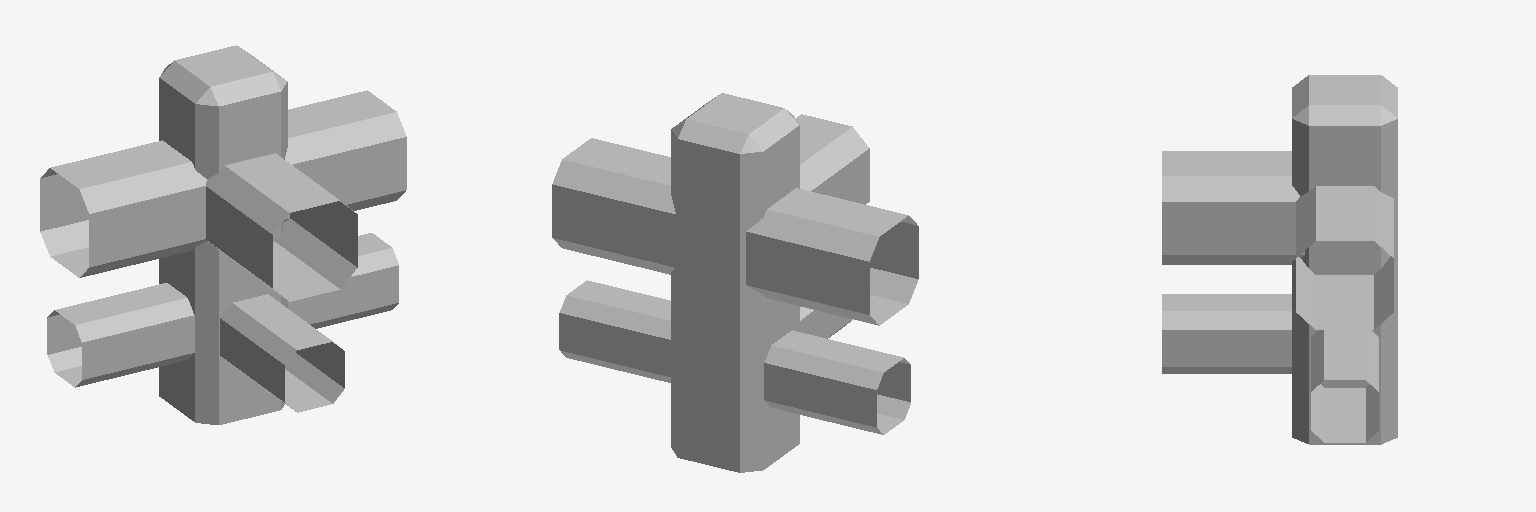
The model's file is Fence_T.obj.
The picture shows the model from 3 angles: view 1: azimuth 30°, elevation 25°; view 2: azimuth 150°, elevation 25°; view 3: azimuth 270°, elevation 25°; orthographic projection.
Parts seen in each view (by area): view 1: Fence_T_Cube.039; view 2: Fence_T_Cube.039; view 3: Fence_T_Cube.039.
Part boxes in pixels (x1,y1,x2,y2): Fence_T_Cube.039: (40, 45, 406, 424); Fence_T_Cube.039: (552, 93, 918, 472); Fence_T_Cube.039: (1162, 75, 1397, 444).
Bounding box in the file's own units: 2 × 2 × 1.29.